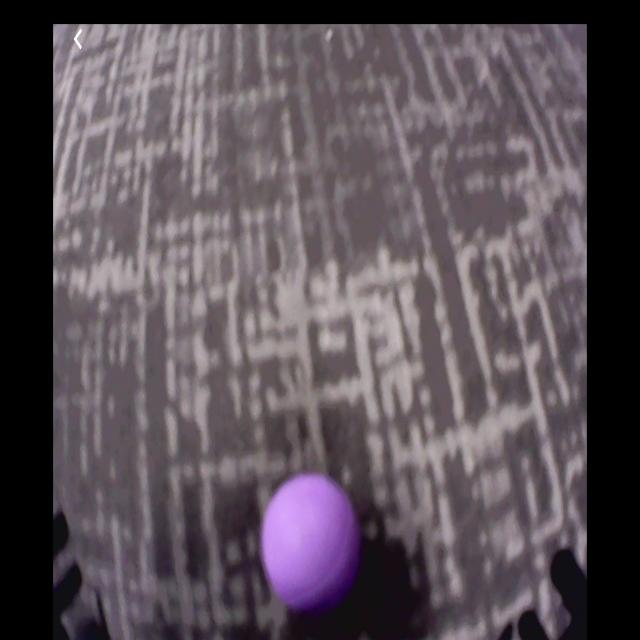ball: (263, 474, 357, 617)
